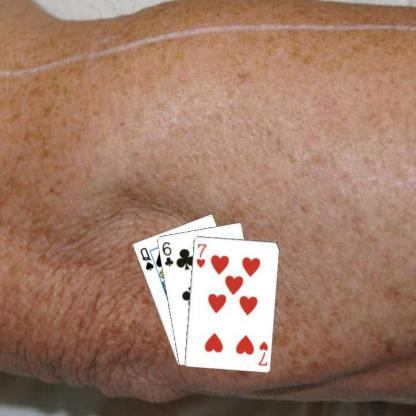6C: (160, 239, 174, 268)
7H: (256, 338, 270, 367), (194, 241, 208, 269)
QS: (137, 245, 155, 272)
